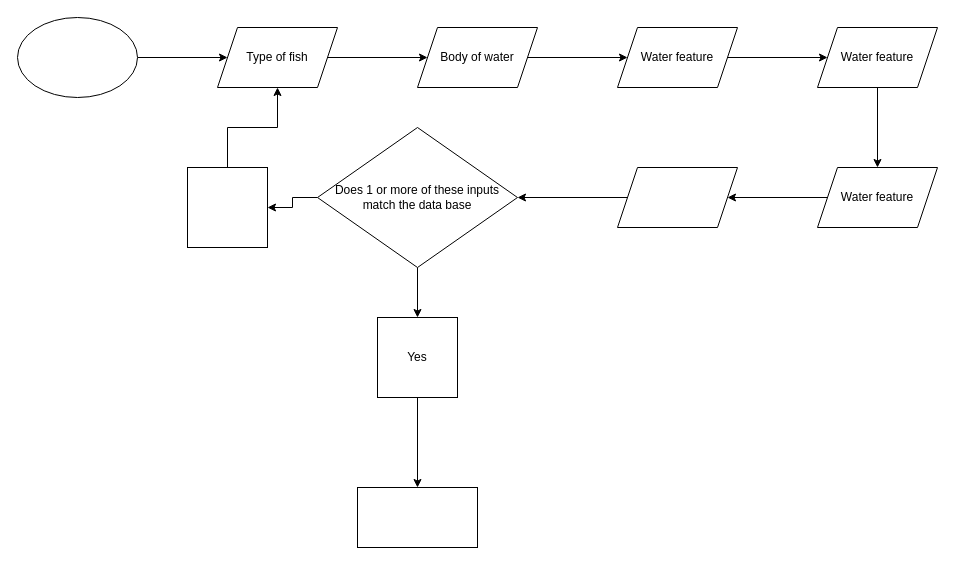
This 955x565 diagram has some shape labels left out. Here are the shapes that lost their labels. From the top down, the centre of each, then its label:
(77,57): Lure suggestion tab
(227,207): No
(677,197): Date
(417,517): Display Lure Suggestion
